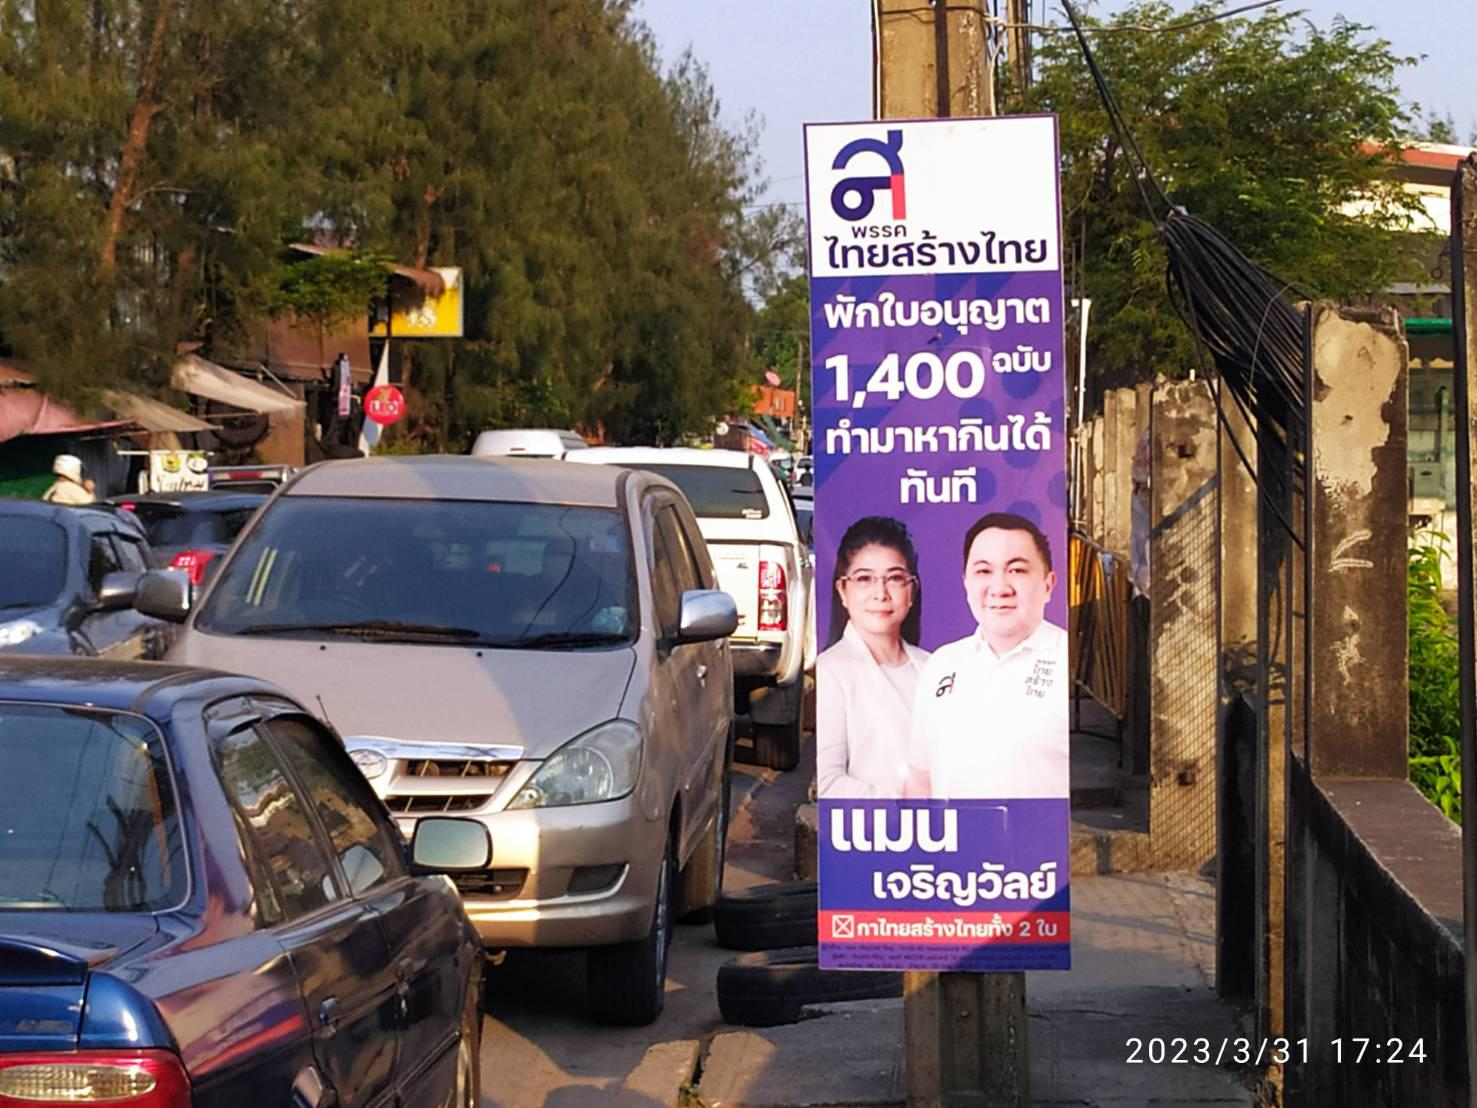Banner: (791, 111, 1070, 964)
